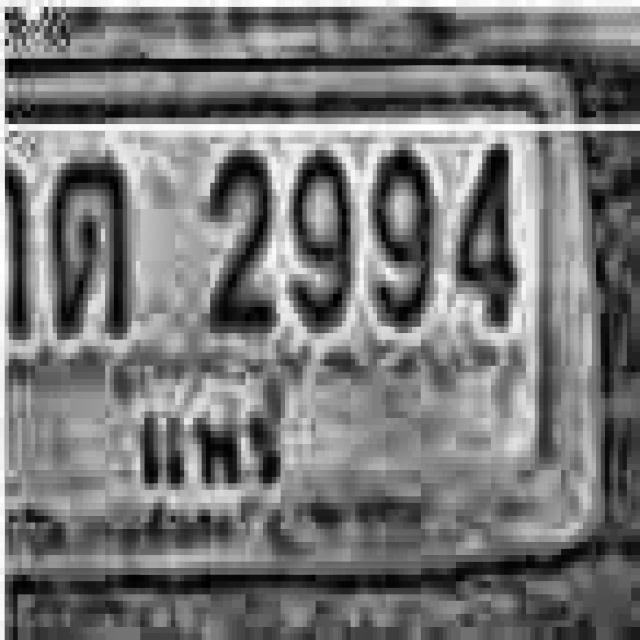license-plate: (0, 72, 600, 578)
